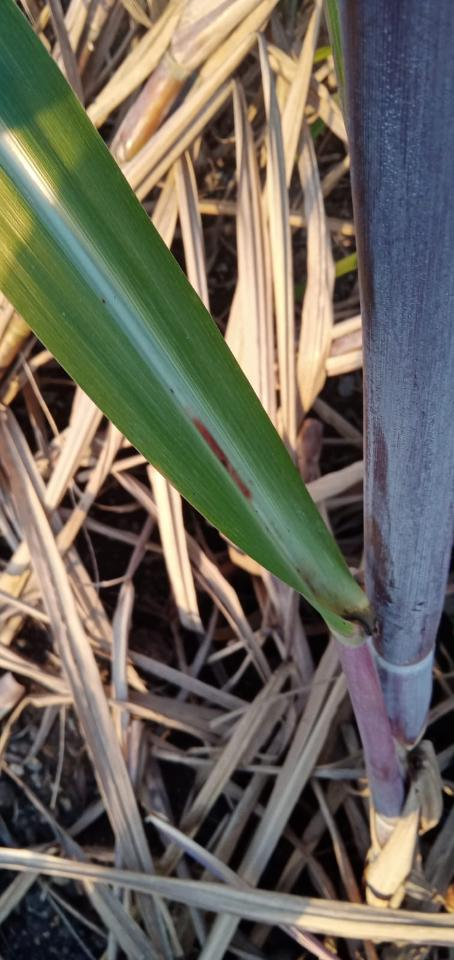RedRot: (192, 417, 252, 500)
